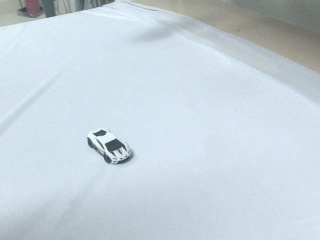toy_car: (87, 129, 132, 164)
